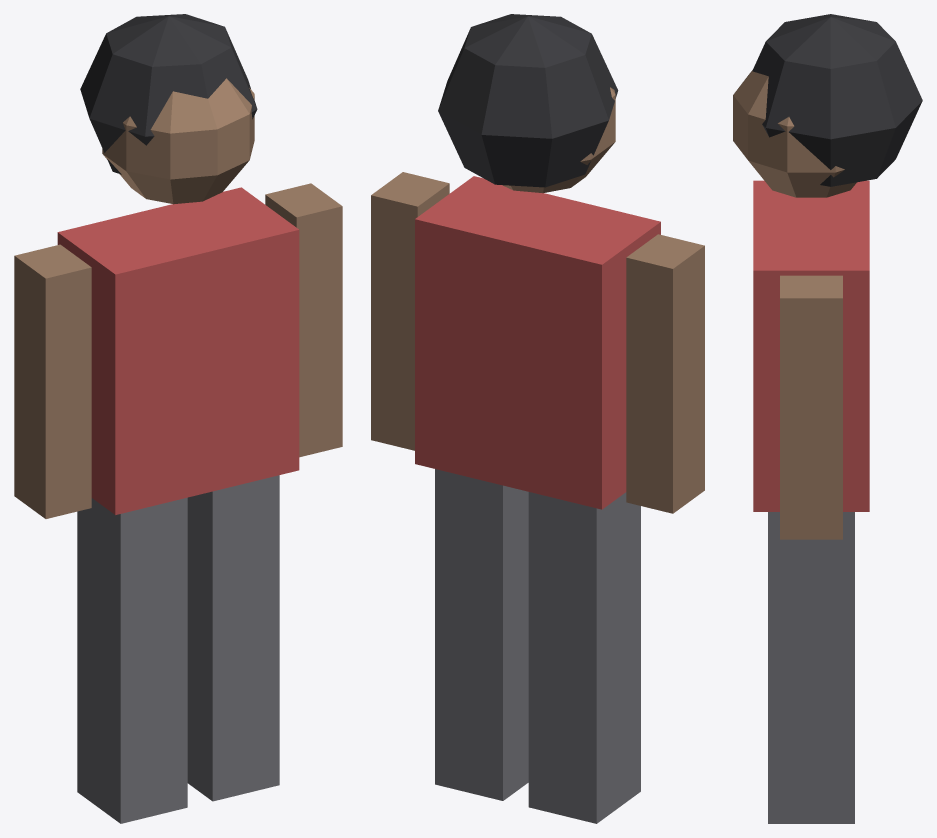
Rendered from CH_Stubborn.glb.
3 views of the same model, side by side, from view 1: azimuth 30°, elevation 25°; view 2: azimuth 150°, elevation 25°; view 3: azimuth 270°, elevation 25° (orthographic).
Parts seen in each view (by area): view 1: torso.001, legL.001, legR.001, armL.001, hair.001, armR.001, head.001; view 2: torso.001, legL.001, legR.001, hair.001, armL.001, armR.001, head.001; view 3: legR.001, torso.001, hair.001, armR.001, head.001.
Boxes of the visible parts, x1,y1,x2,y2 form: torso.001: [57, 187, 299, 514]; legL.001: [77, 497, 187, 823]; legR.001: [187, 475, 279, 801]; armL.001: [14, 244, 91, 518]; hair.001: [80, 14, 257, 174]; armR.001: [265, 183, 342, 457]; head.001: [102, 78, 254, 204]; torso.001: [415, 176, 660, 509]; legL.001: [528, 492, 640, 823]; legR.001: [435, 469, 528, 800]; hair.001: [438, 14, 618, 187]; armL.001: [626, 234, 704, 513]; armR.001: [371, 172, 449, 450]; head.001: [502, 87, 615, 193]; legR.001: [768, 512, 854, 823]; torso.001: [753, 180, 869, 511]; hair.001: [752, 14, 922, 186]; armR.001: [780, 275, 842, 539]; head.001: [733, 70, 856, 197].
Bounding box in the file's own units: 0.71 × 1.75 × 0.3917.
